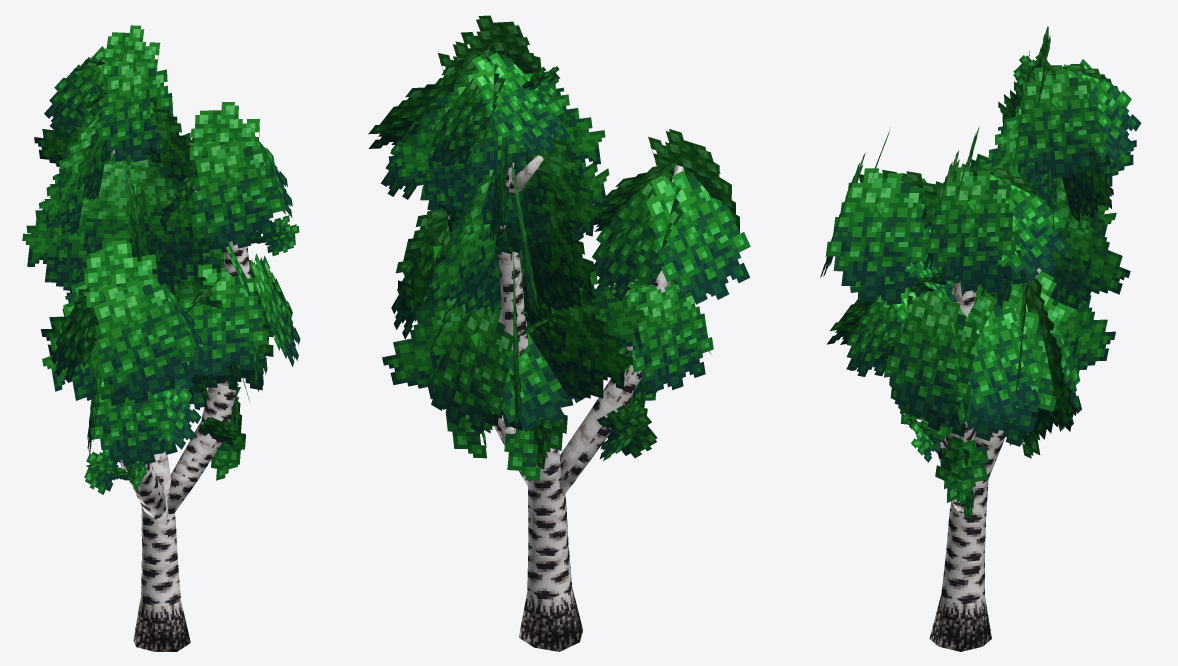
Rendered from birch.gltf.
3 views of the same model, side by side, from view 1: azimuth 30°, elevation 25°; view 2: azimuth 150°, elevation 25°; view 3: azimuth 270°, elevation 25° (orthographic). The views are drawn at different scales.
Visible parts, largest first — view 1: birch_texture.028, Cylinder, birch_texture.006, branch.007, branch.008, branch.002; view 2: birch_texture.028, Cylinder, birch_texture.013, branch.007, birch_texture.006, branch.004, branch.001; view 3: birch_texture.028, Cylinder, birch_texture.006, branch.002, branch.008.
Part boxes in pixels (<box>): birch_texture.028: <box>22,25,300,467</box>; Cylinder: <box>98,150,250,651</box>; birch_texture.006: <box>211,383,245,480</box>; branch.007: <box>84,449,129,494</box>; branch.008: <box>252,215,299,255</box>; branch.002: <box>198,414,239,444</box>; birch_texture.028: <box>368,15,750,434</box>; Cylinder: <box>448,155,684,651</box>; birch_texture.013: <box>504,406,567,480</box>; branch.007: <box>597,405,657,460</box>; birch_texture.006: <box>446,414,493,458</box>; branch.004: <box>517,301,558,343</box>; branch.001: <box>522,66,559,108</box>; birch_texture.028: <box>820,26,1141,446</box>; Cylinder: <box>929,268,1041,651</box>; birch_texture.006: <box>935,435,988,521</box>; branch.002: <box>905,415,942,462</box>; branch.008: <box>910,267,957,301</box>.
Bounding box in the file's own units: 8.52 × 15.39 × 8.06.
1 material, 1 textured.
